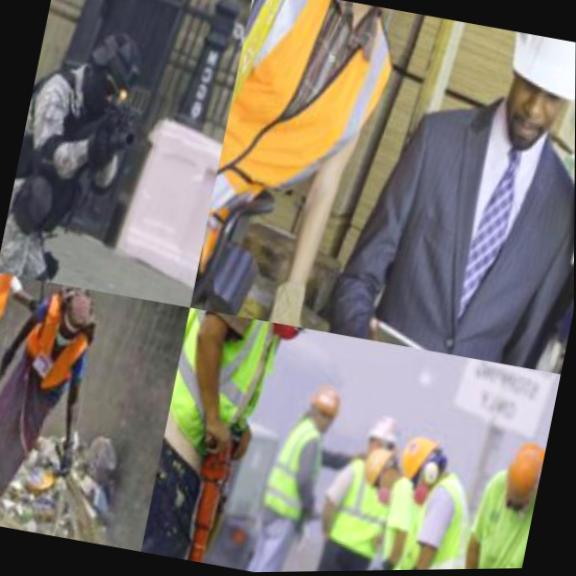safety_vest: (196, 0, 426, 314), (158, 306, 292, 490), (6, 57, 136, 237), (383, 444, 505, 570), (312, 447, 412, 571), (254, 416, 341, 541), (7, 304, 103, 405), (0, 272, 28, 330)
